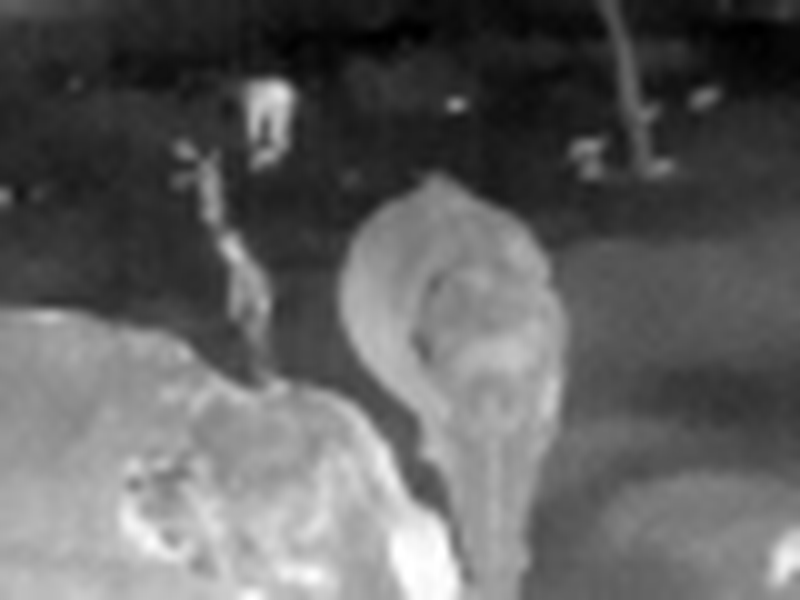elephant: (1, 185, 604, 600), (205, 75, 287, 178)
